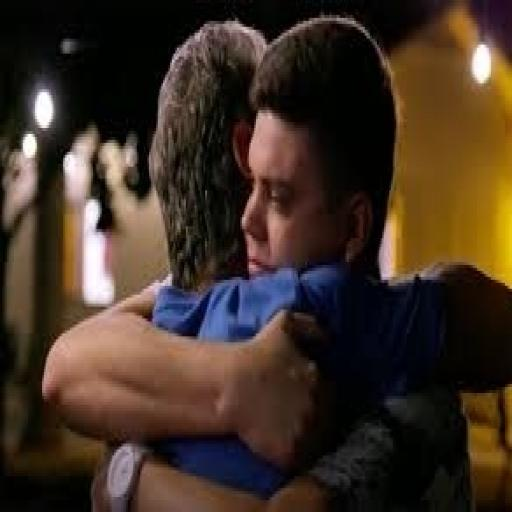hugging: (40, 12, 510, 509)
